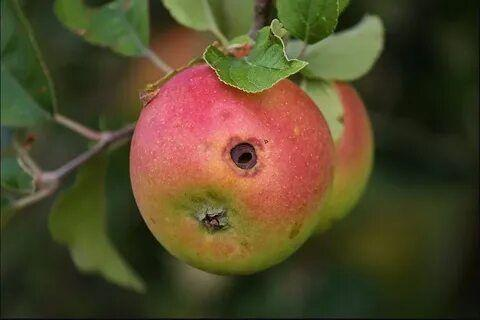Apple: (130, 64, 335, 274)
